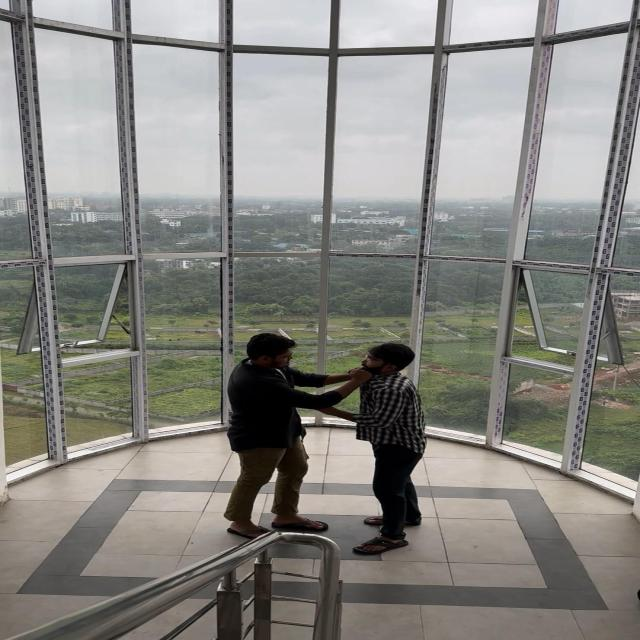fight: (204, 318, 450, 572)
